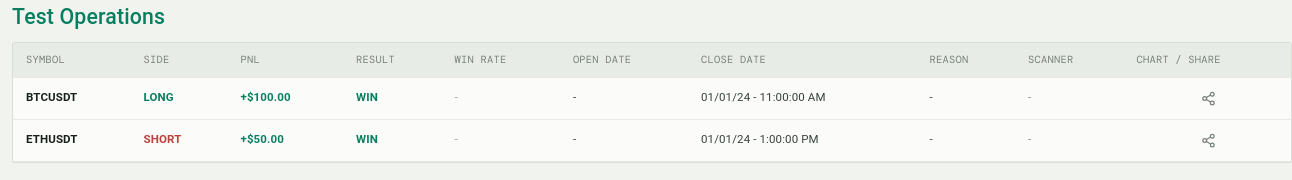
Test: OperationsTable › handles sorting with string numbers
// Probar ordenamiento por PnL
Click the column heading "PnL" at [285, 60], box [228,43,343,77]
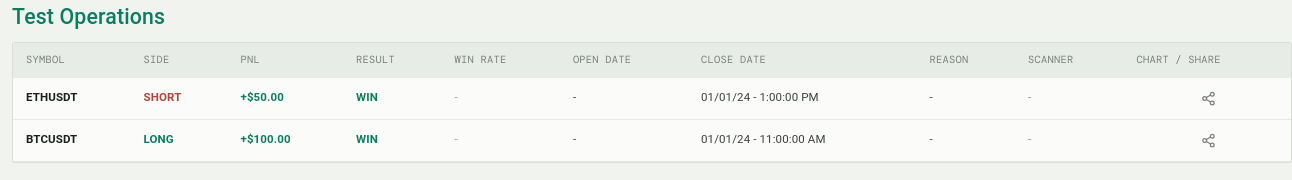
expect the text "BTCUSDT" is shown: met, box [13,119,130,161]
expect the text "ETHUSDT" is shown: met, box [13,77,130,119]
